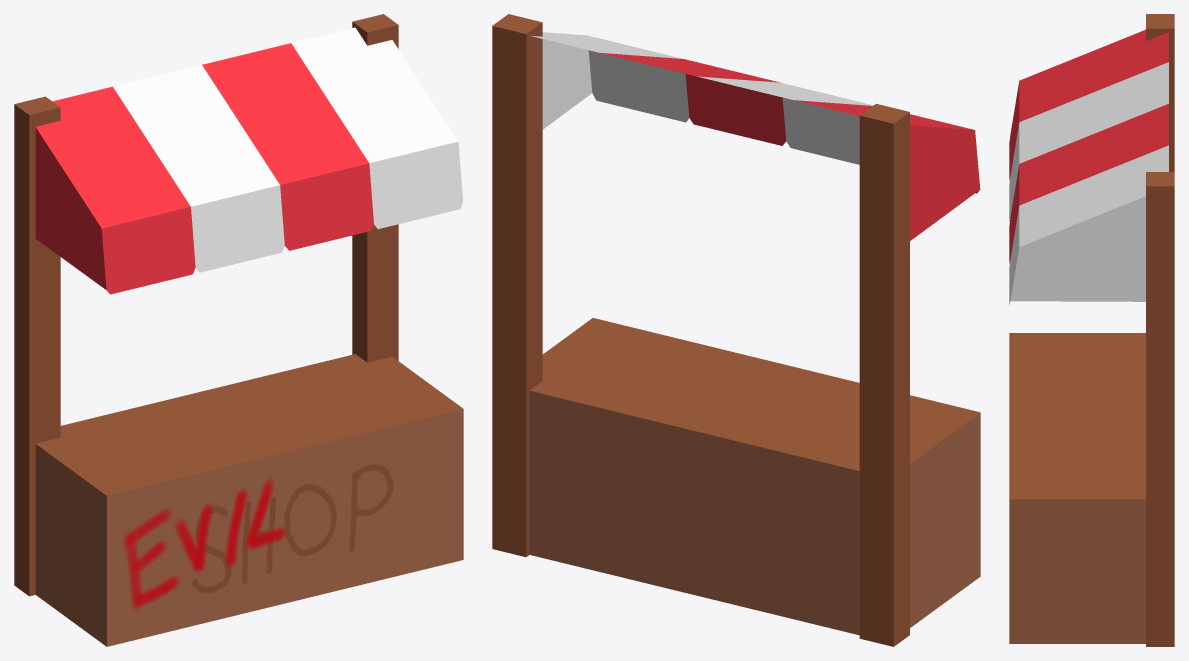
Rendered from EVIL_SHOP.fbx.
The picture shows the model from 3 angles, left to right: view 1: azimuth 30°, elevation 25°; view 2: azimuth 150°, elevation 25°; view 3: azimuth 270°, elevation 25°; orthographic projection. The views are drawn at different scales.
Visible parts, largest first — view 1: Cube; view 2: Cube; view 3: Cube.
Part boxes in pixels (x1,y1,x2,y2): Cube: [14, 14, 463, 646]; Cube: [492, 14, 980, 646]; Cube: [1009, 14, 1174, 646].
Bounding box in the file's own units: 258 × 321 × 104.
